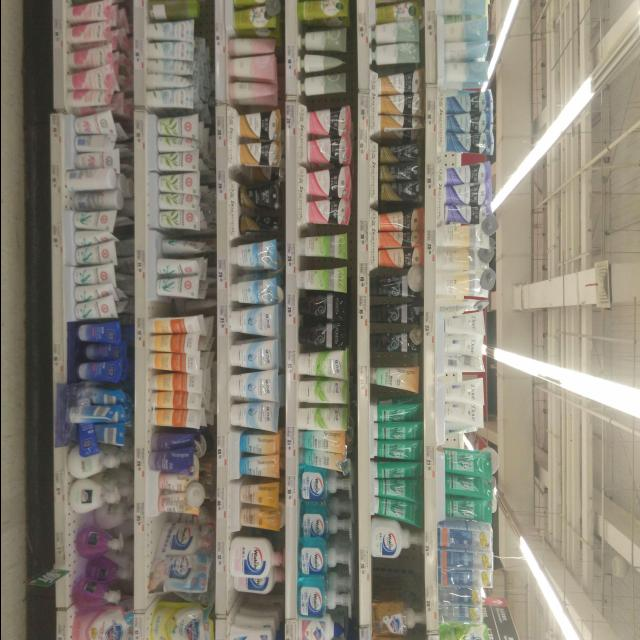empty_space: (375, 559, 419, 584)
